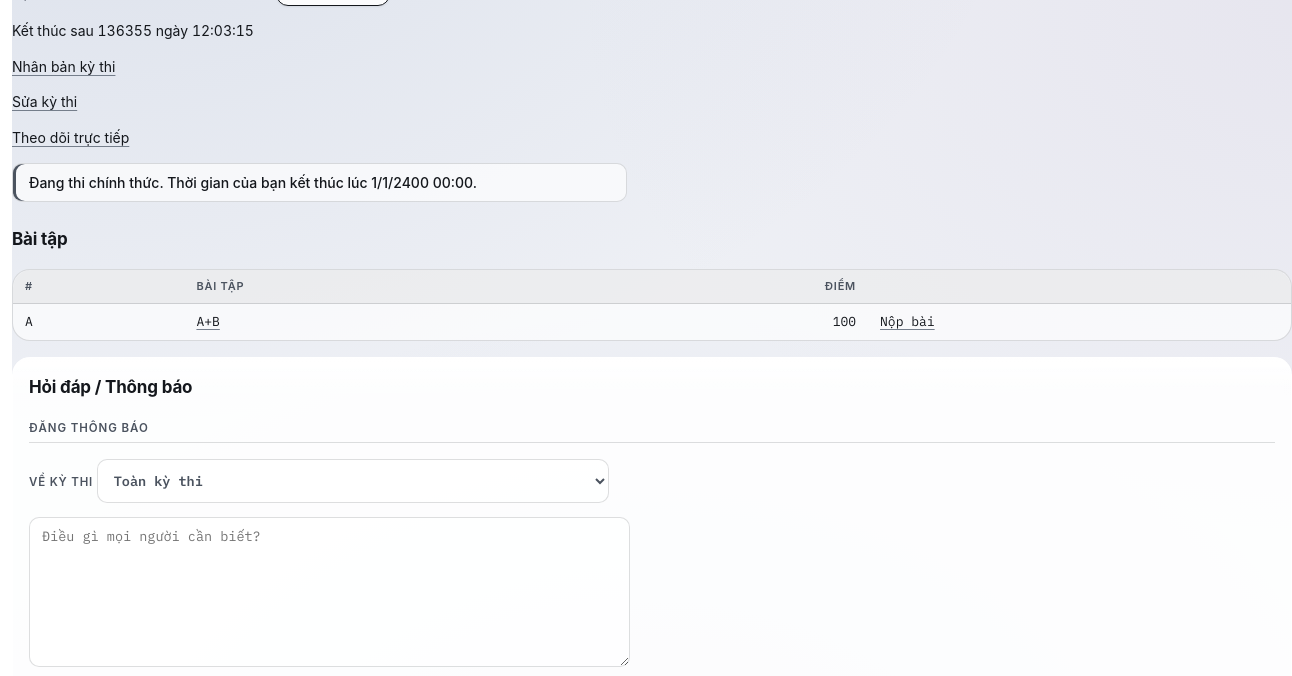
Test case: the clarification feed refuses in sentences, and keeps what was typed › a refused announcement reads as a sentence with the identifier beside it
Type "Ten minutes left." into the text box named "Đăng thông báo". click: (329, 592)
box: x1=29 y1=517 x2=630 y2=667
(page scrolled)
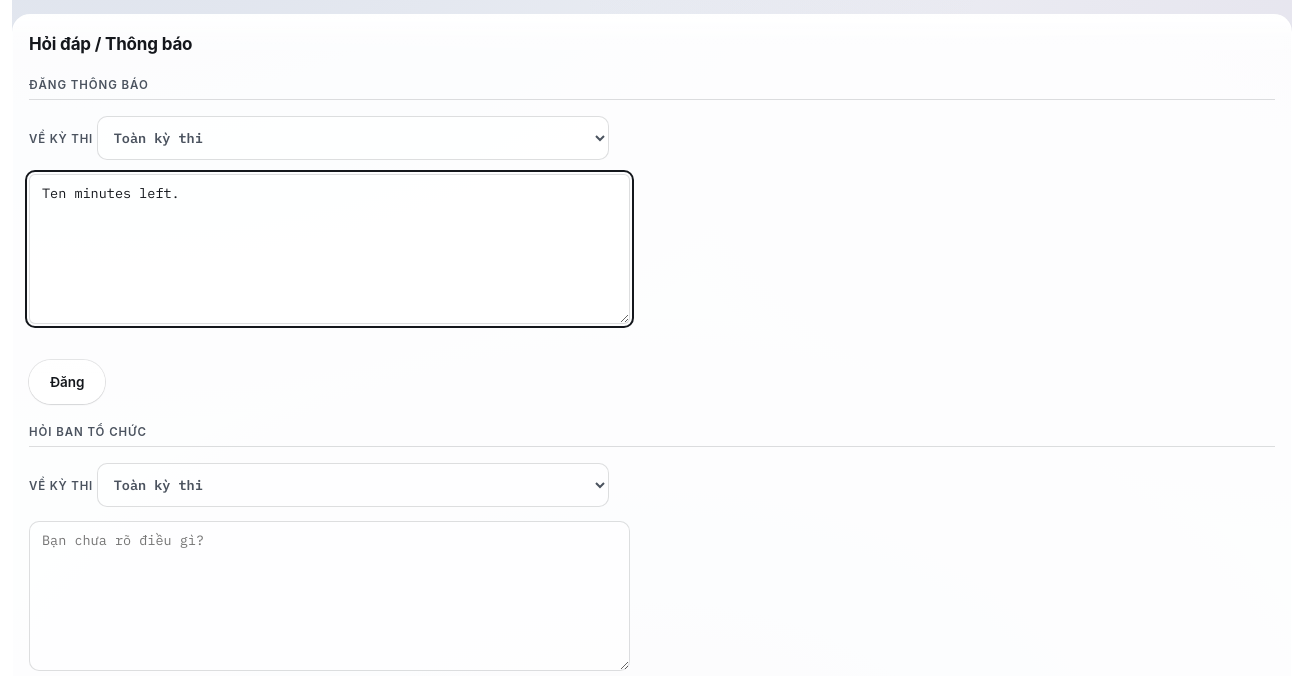
Click the button "Đăng". click: (67, 382)
box: x1=29 y1=360 x2=105 y2=404
(page scrolled)
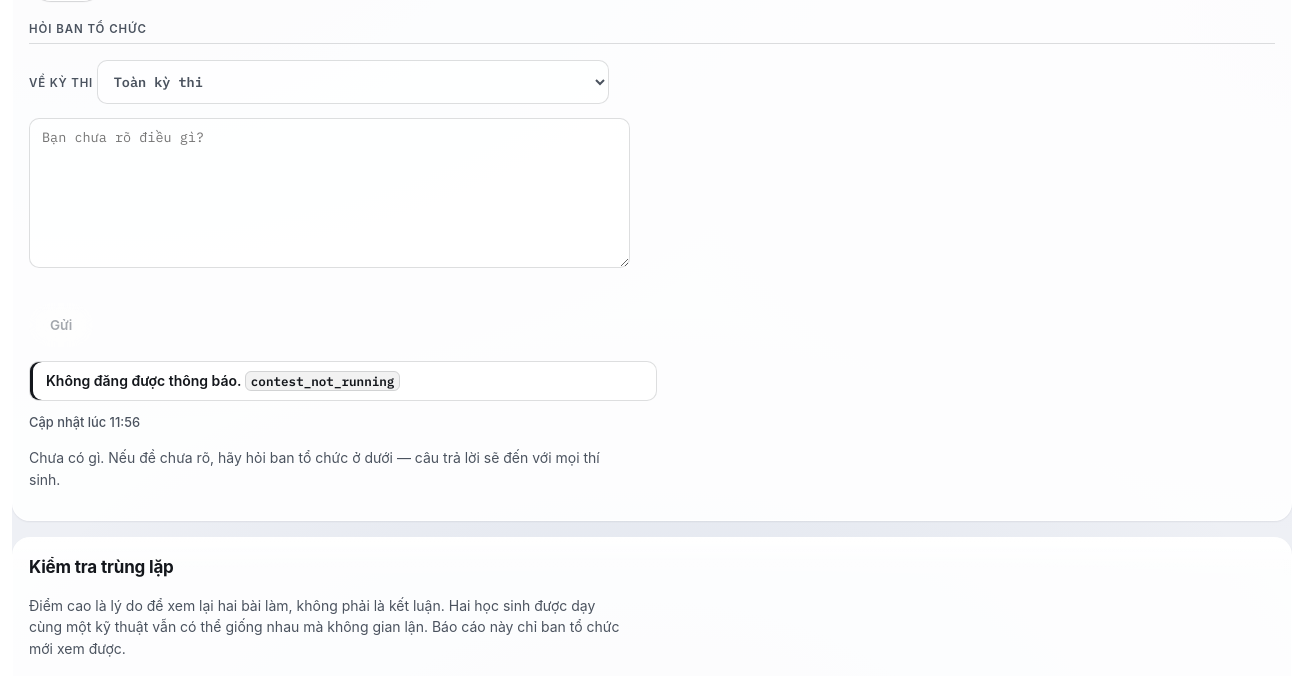
Check: the message reads "Không đăng được thông báo. contest_not_running", box x1=46 y1=372 x2=241 y2=389
